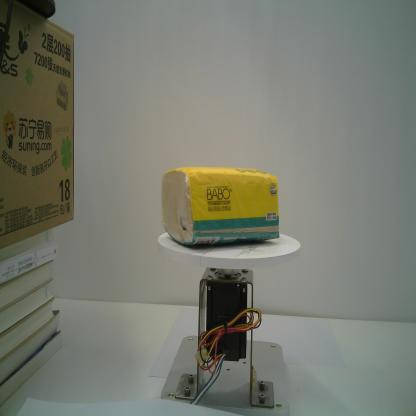Tissue: (159, 163, 282, 248)
